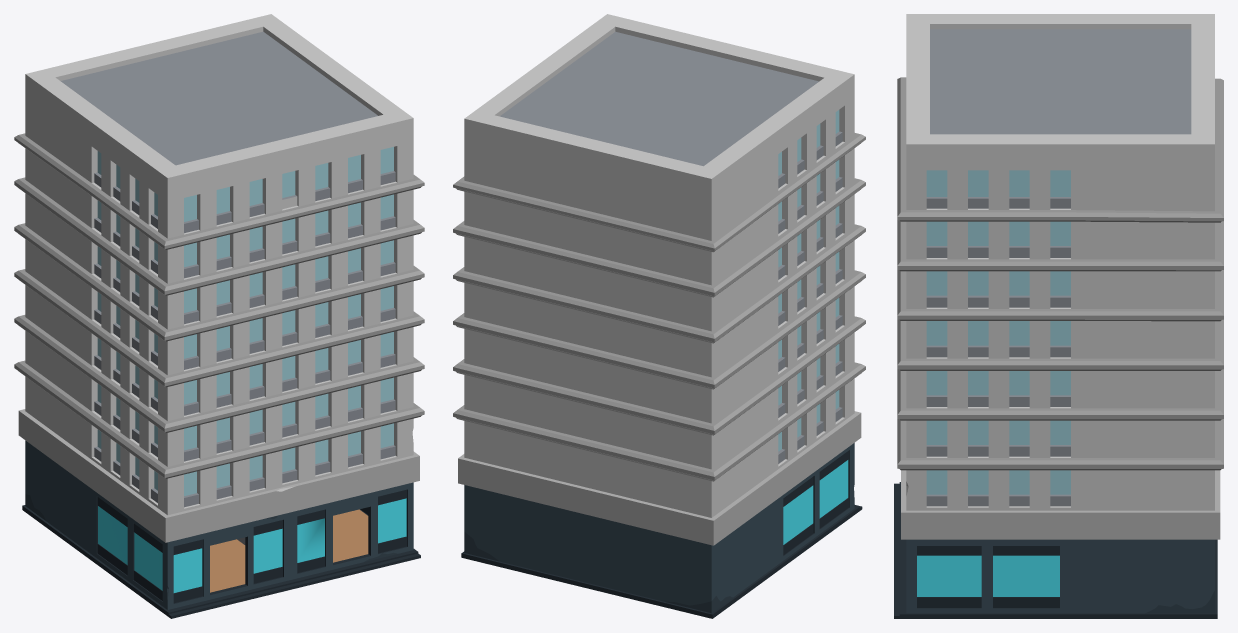
File: SM_Buildings_Office_08.fbx
3 renders of one model, left to right at view 1: azimuth 30°, elevation 25°; view 2: azimuth 150°, elevation 25°; view 3: azimuth 270°, elevation 25°, orthographic. The views are drawn at different scales.
Visible parts, largest first — view 1: SM_Buildings_Office_08; view 2: SM_Buildings_Office_08; view 3: SM_Buildings_Office_08.
Boxes of the visible parts, bbox=[...] form: SM_Buildings_Office_08: bbox=[14, 14, 424, 618]; SM_Buildings_Office_08: bbox=[453, 14, 865, 618]; SM_Buildings_Office_08: bbox=[894, 14, 1223, 618].
Size of the model in its own units: 14.75 by 23.65 by 14.92.
